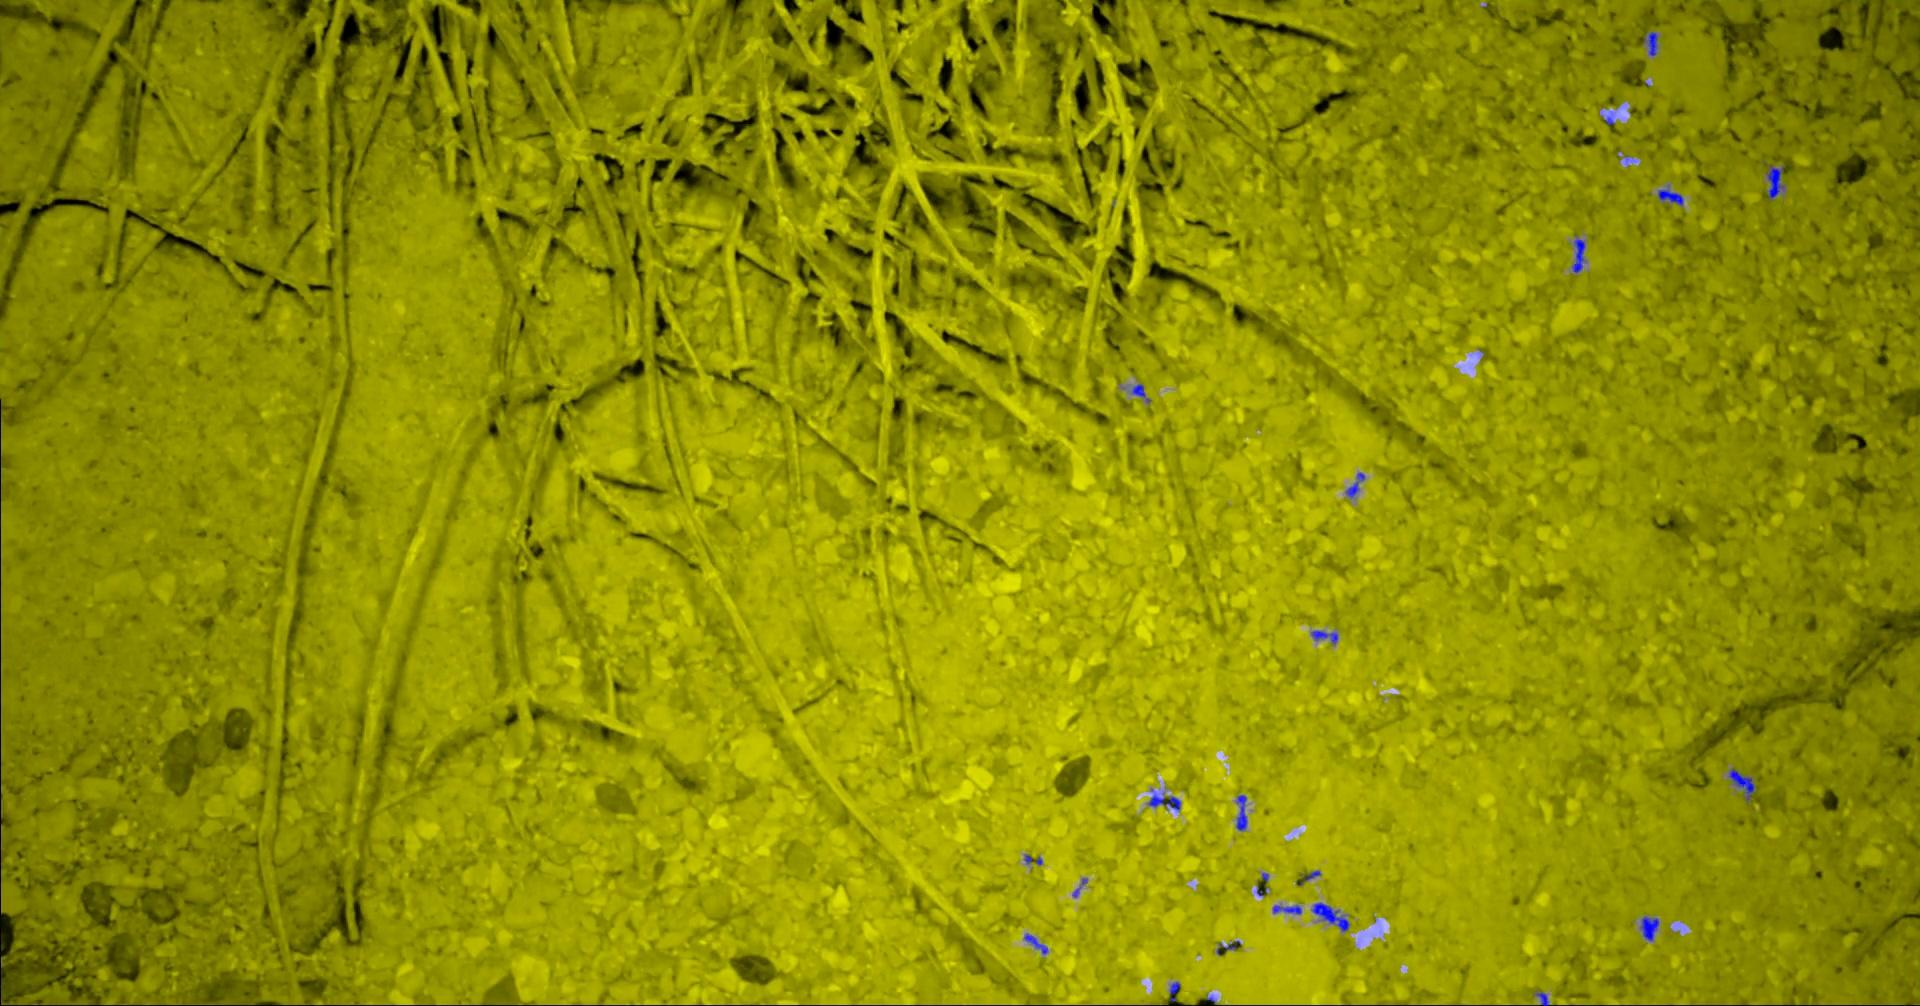ant: (1310, 902, 1349, 931), (1728, 768, 1755, 800), (1766, 165, 1784, 199), (1147, 793, 1180, 810), (1023, 934, 1048, 954), (1345, 473, 1364, 497), (1641, 916, 1658, 940), (1657, 188, 1683, 205), (1571, 239, 1583, 272), (1236, 794, 1246, 829), (1310, 630, 1337, 643), (1643, 30, 1657, 55), (1217, 940, 1239, 954), (1272, 904, 1302, 915), (1170, 981, 1180, 1001), (1131, 384, 1144, 398), (1535, 991, 1548, 1005)
